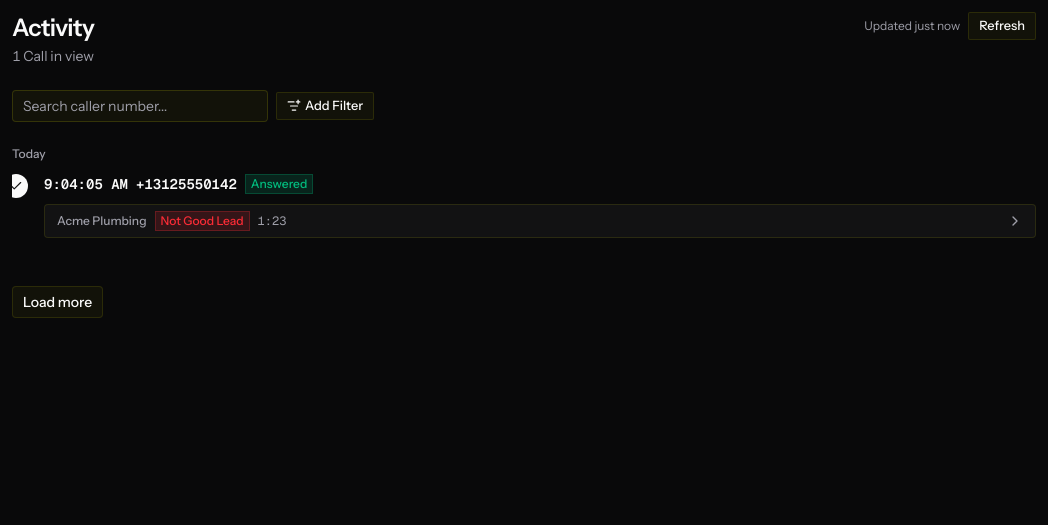
it: ActivityView › labels a Media purged step with its Purged Badge
Click the button "Acme Plumbing Not Good Lead 1:23" at [102, 220], box [45,205,1035,237]
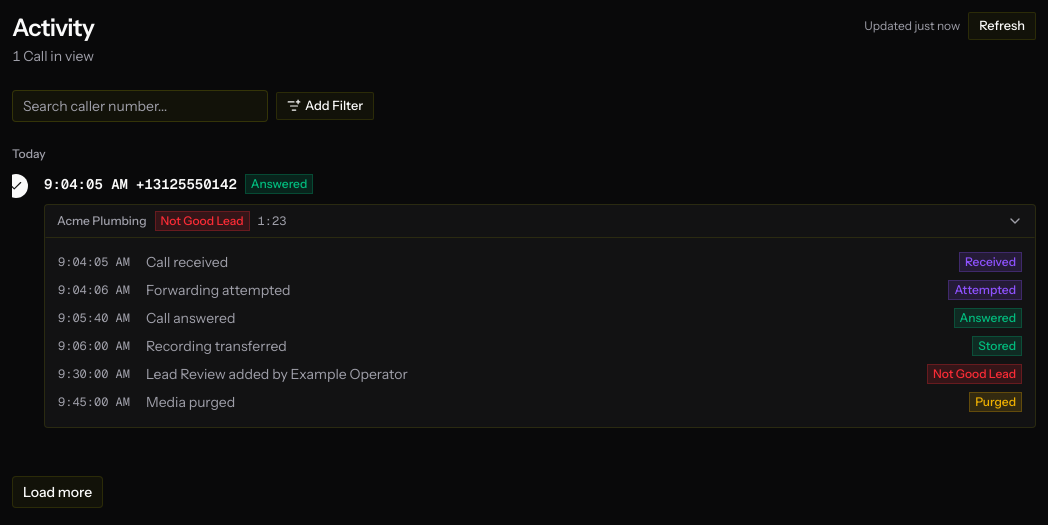
Now the text "Media purged" is shown, box [146,392,235,412]
Now the text "Purged" is shown, box [969,392,1022,412]
